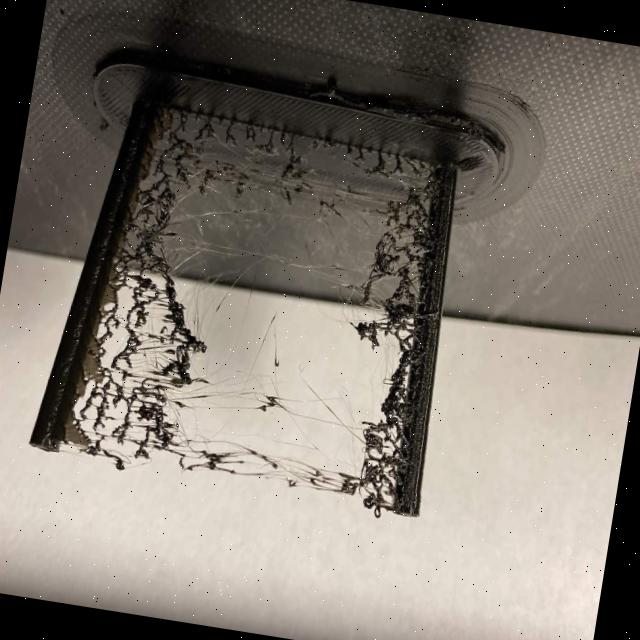stringing: (58, 103, 450, 511)
